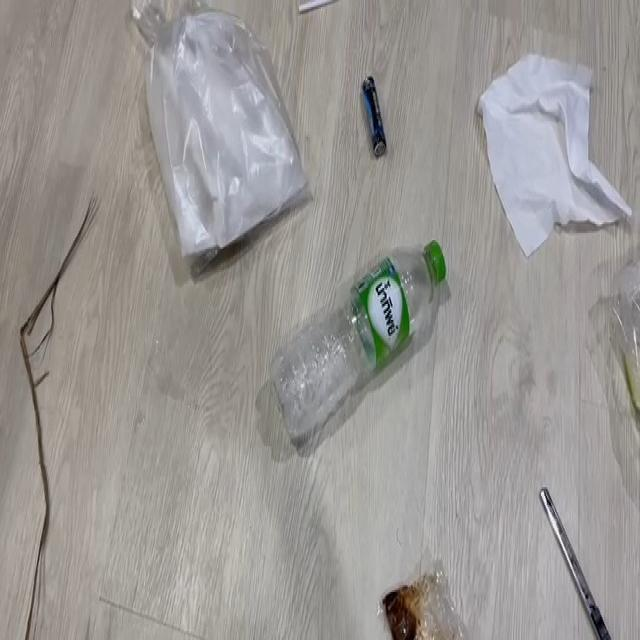Anorganik: (263, 235, 461, 435), (132, 17, 308, 232), (477, 48, 614, 241), (528, 479, 624, 636)
B3: (16, 157, 100, 635), (374, 535, 475, 640), (358, 61, 392, 166)
